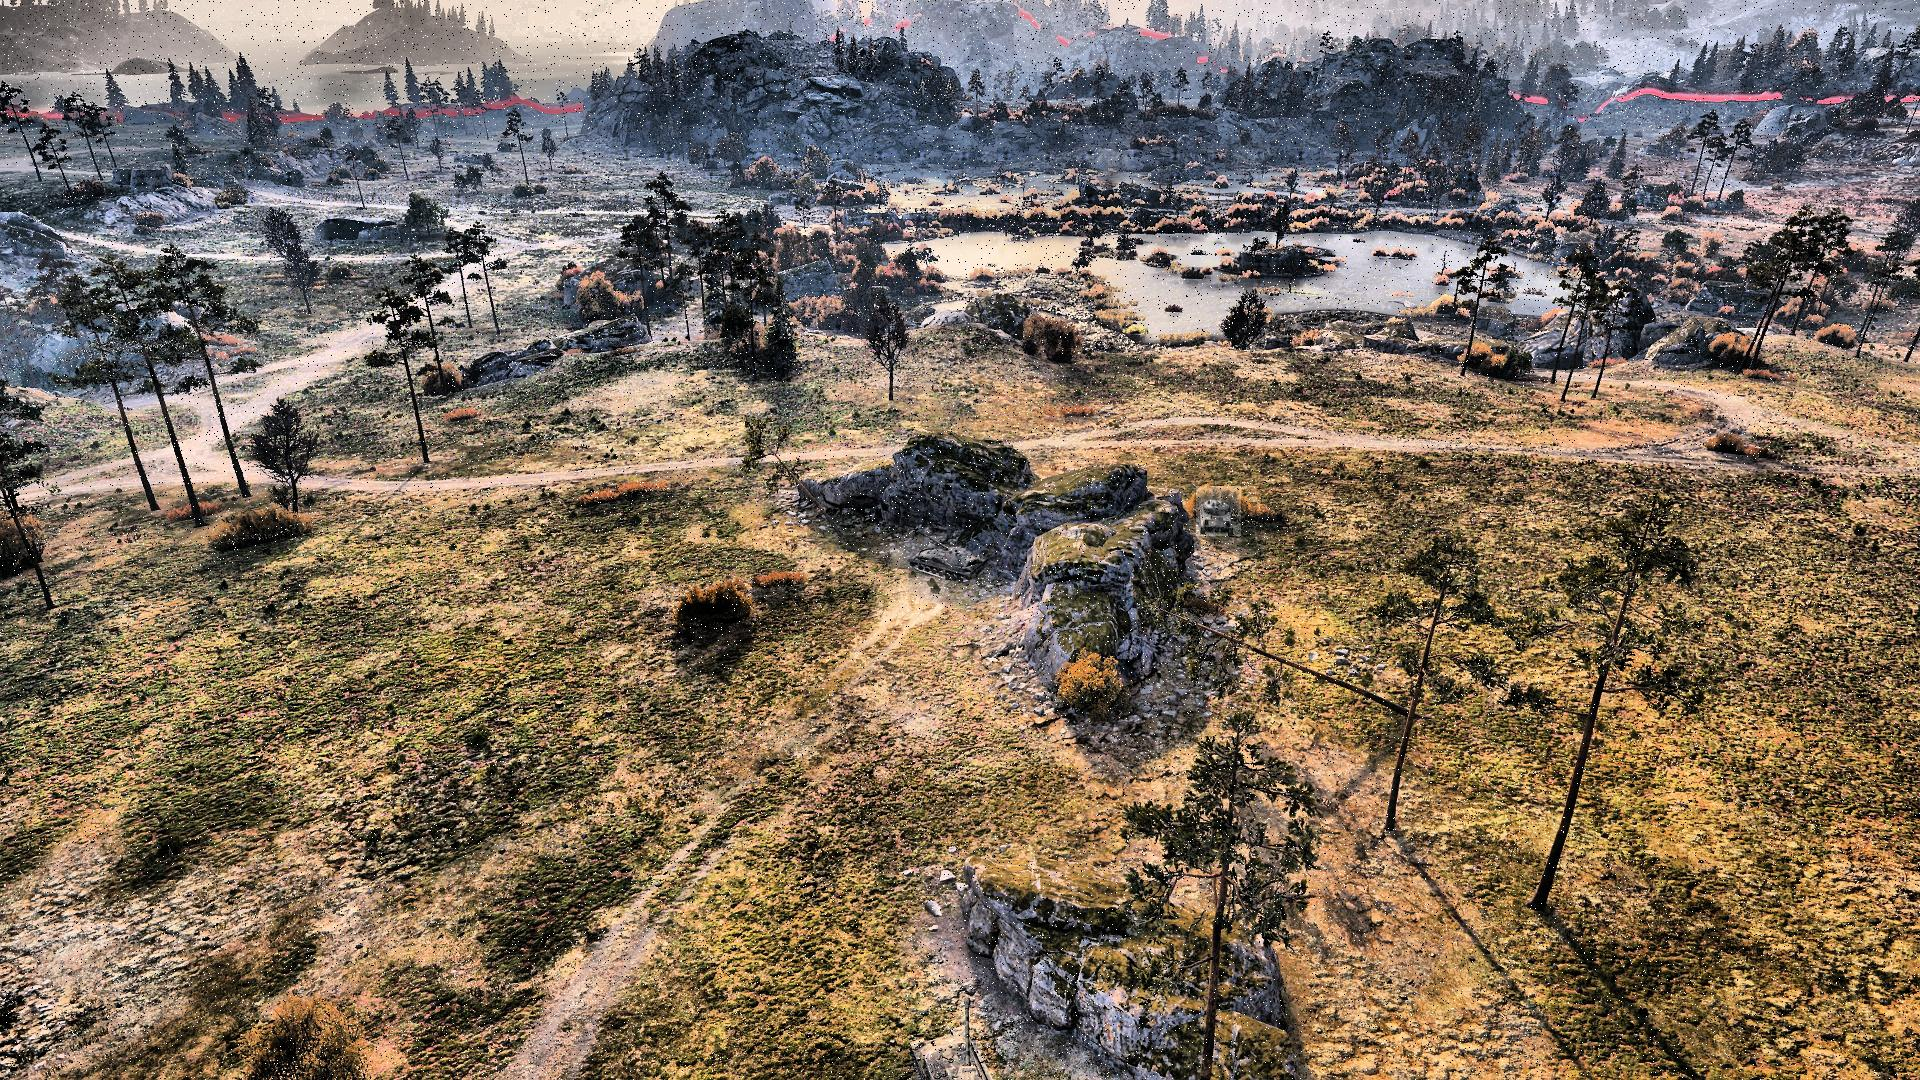military-vehicle: (1196, 487, 1242, 537)
